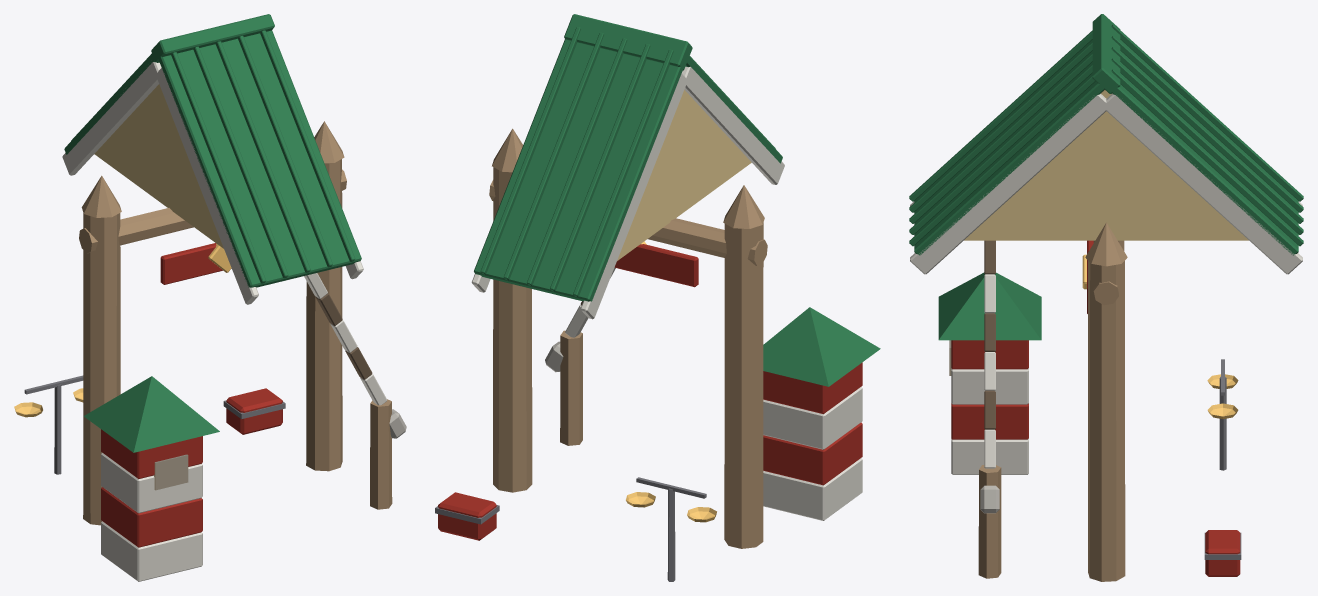
The model's file is bld_tamozhnya_e2.glb.
3 views of the same model, side by side, from view 1: azimuth 30°, elevation 25°; view 2: azimuth 150°, elevation 25°; view 3: azimuth 270°, elevation 25° (orthographic). The views are drawn at different scales.
Visible parts, largest first — view 1: tamozhnya; view 2: tamozhnya; view 3: tamozhnya.
Boxes of the visible parts, bbox=[...] form: tamozhnya: bbox=[14, 14, 406, 581]; tamozhnya: bbox=[435, 14, 880, 581]; tamozhnya: bbox=[909, 14, 1303, 581].
Bounding box in the file's own units: 0.9025 × 1.36 × 1.02.
